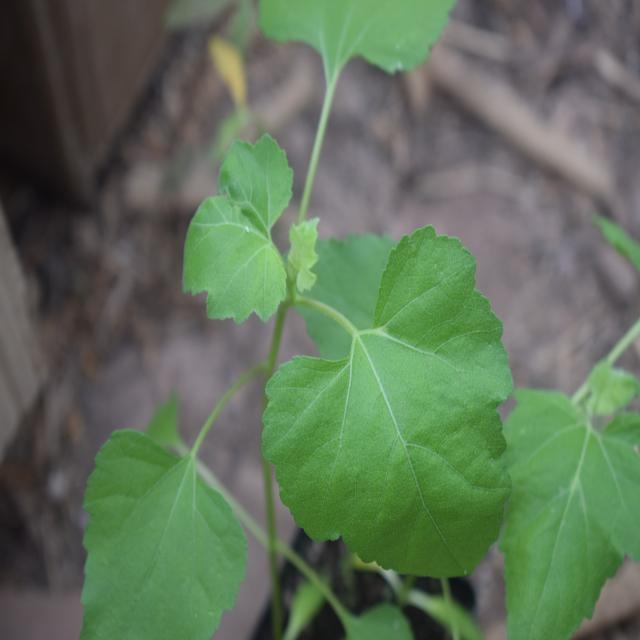cocklebur: (94, 8, 571, 622)
